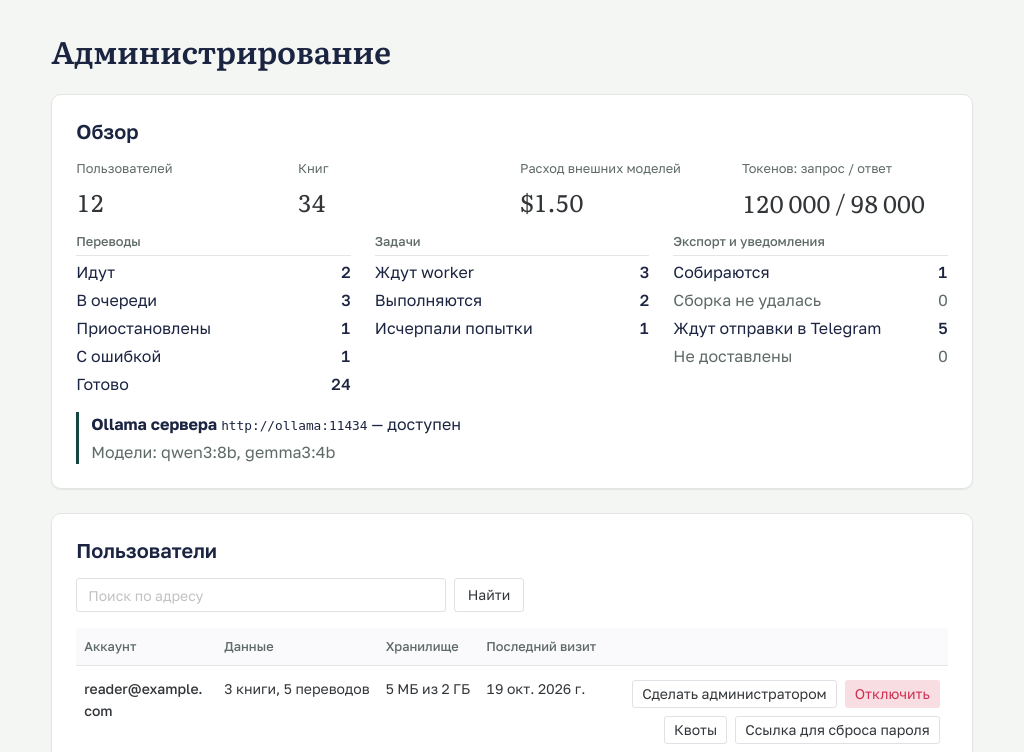
админ-панель › отключение — через подтверждение
Click the button with class "danger". click: (892, 694)
box: [845,680,940,708]
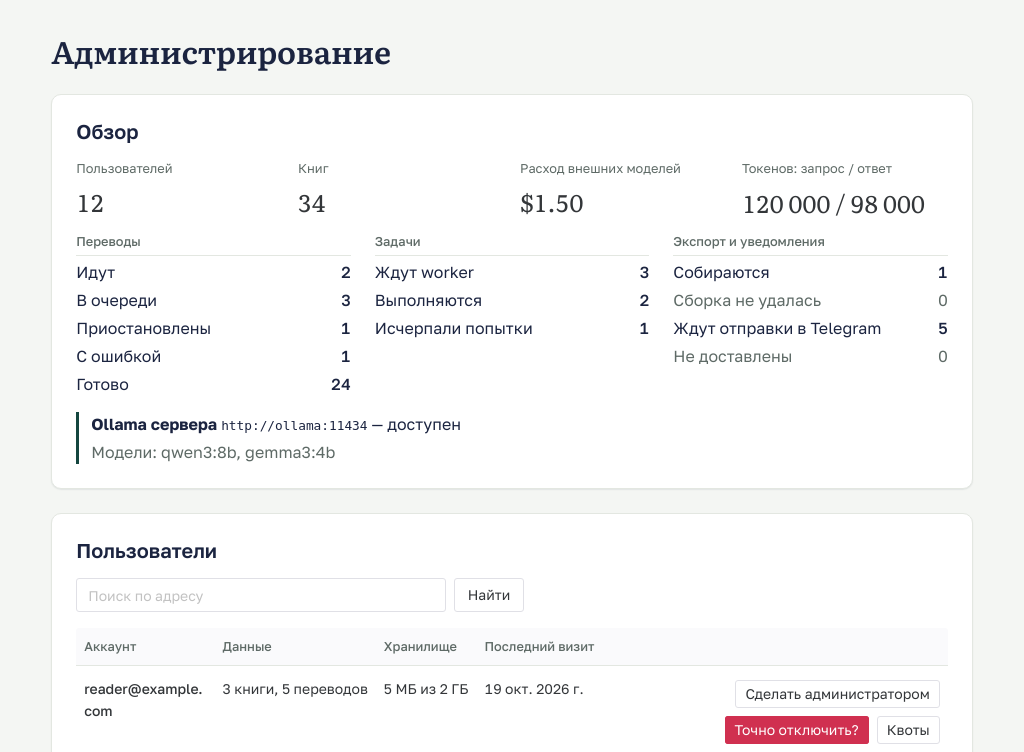
Check: the button with class "danger" reads "Точно отключить?"
Click the button with class "danger". click: (797, 730)
box: [724,716,869,744]
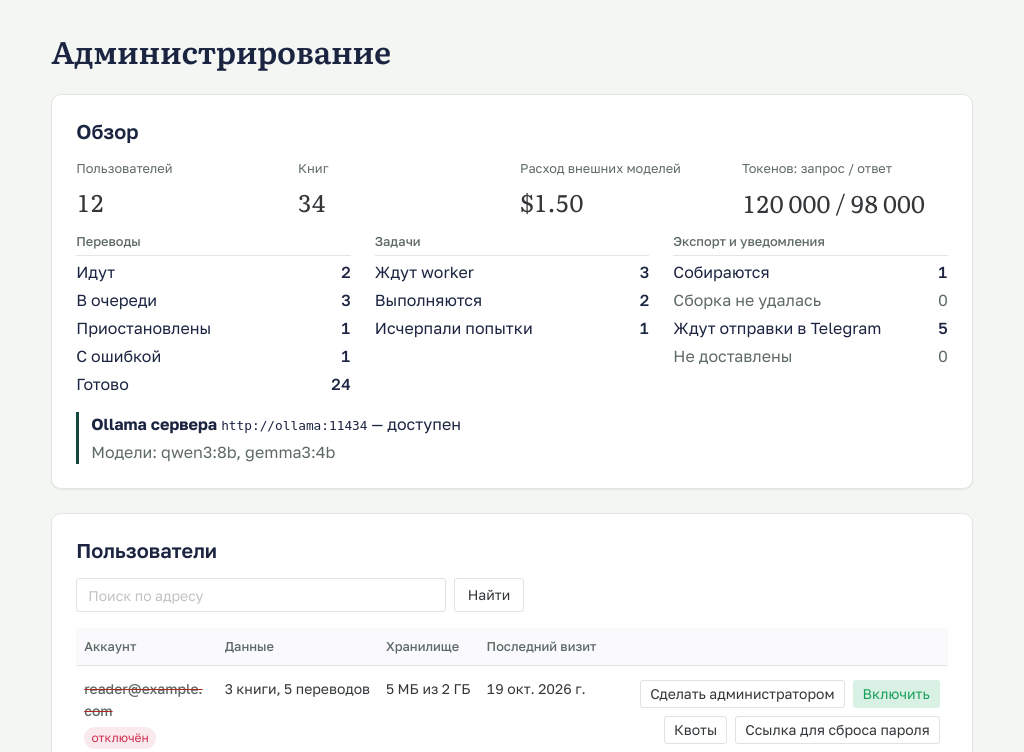
Check: the table that starts with "reader@example.com" shows "отключён", box [92,730,149,744]
Check: the table that starts with "reader@example.com" shows "Включить", box [852,680,940,708]
